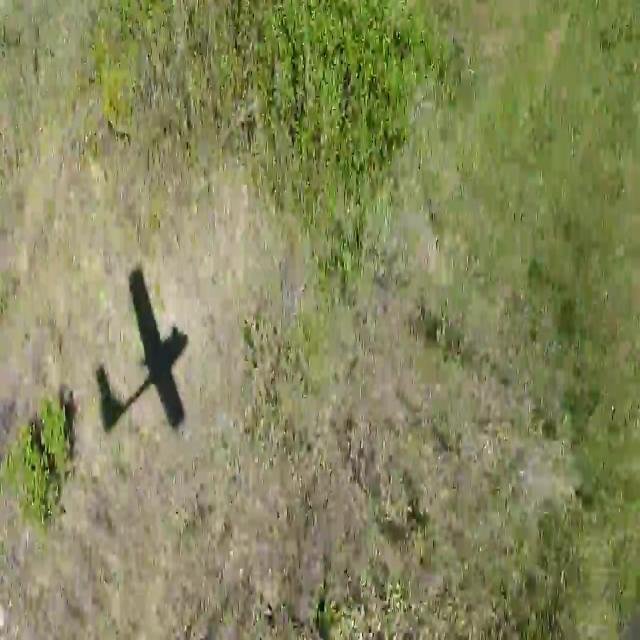iha: (128, 259, 157, 438)
